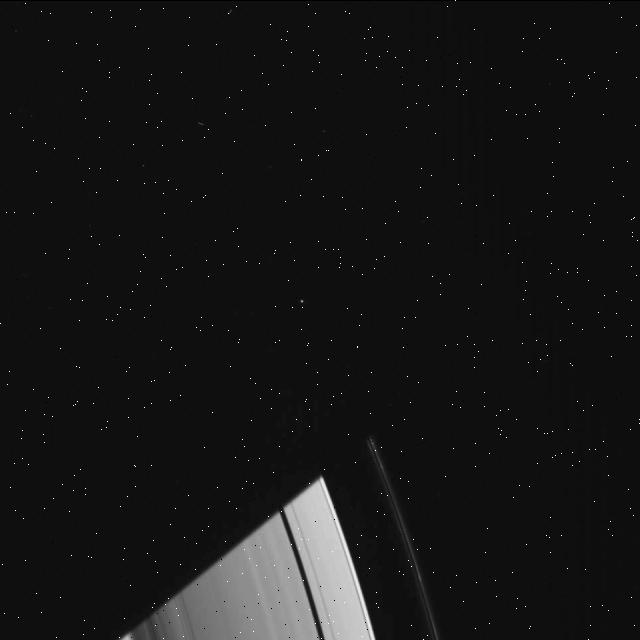Saturn: (107, 436, 440, 640)
